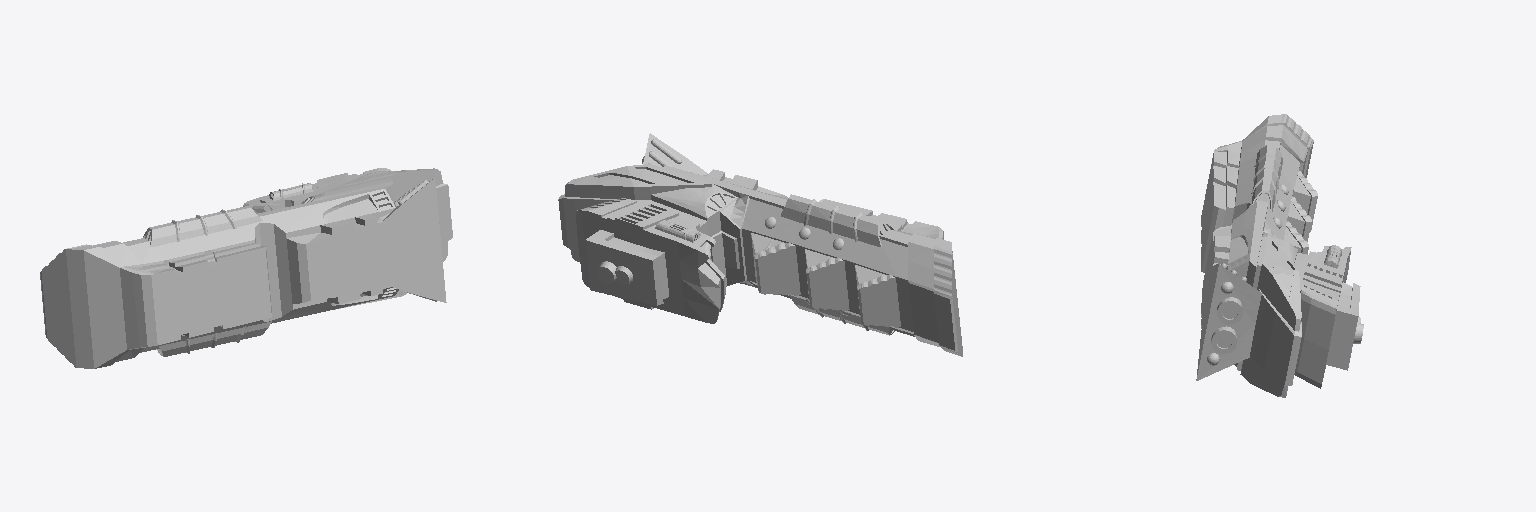
The model's file is miniature_damaged_ship.obj.
3 renders of one model, left to right at view 1: azimuth 30°, elevation 25°; view 2: azimuth 150°, elevation 25°; view 3: azimuth 270°, elevation 25°, orthographic.
Visible parts, largest first — view 1: miniatures_ship_damaged; view 2: miniatures_ship_damaged; view 3: miniatures_ship_damaged.
Boxes of the visible parts, x1,y1,x2,y2 form: miniatures_ship_damaged: [40, 168, 452, 368]; miniatures_ship_damaged: [558, 133, 962, 356]; miniatures_ship_damaged: [1196, 114, 1363, 397].
Bounding box in the file's own units: 0.8534 × 0.2638 × 0.3101.